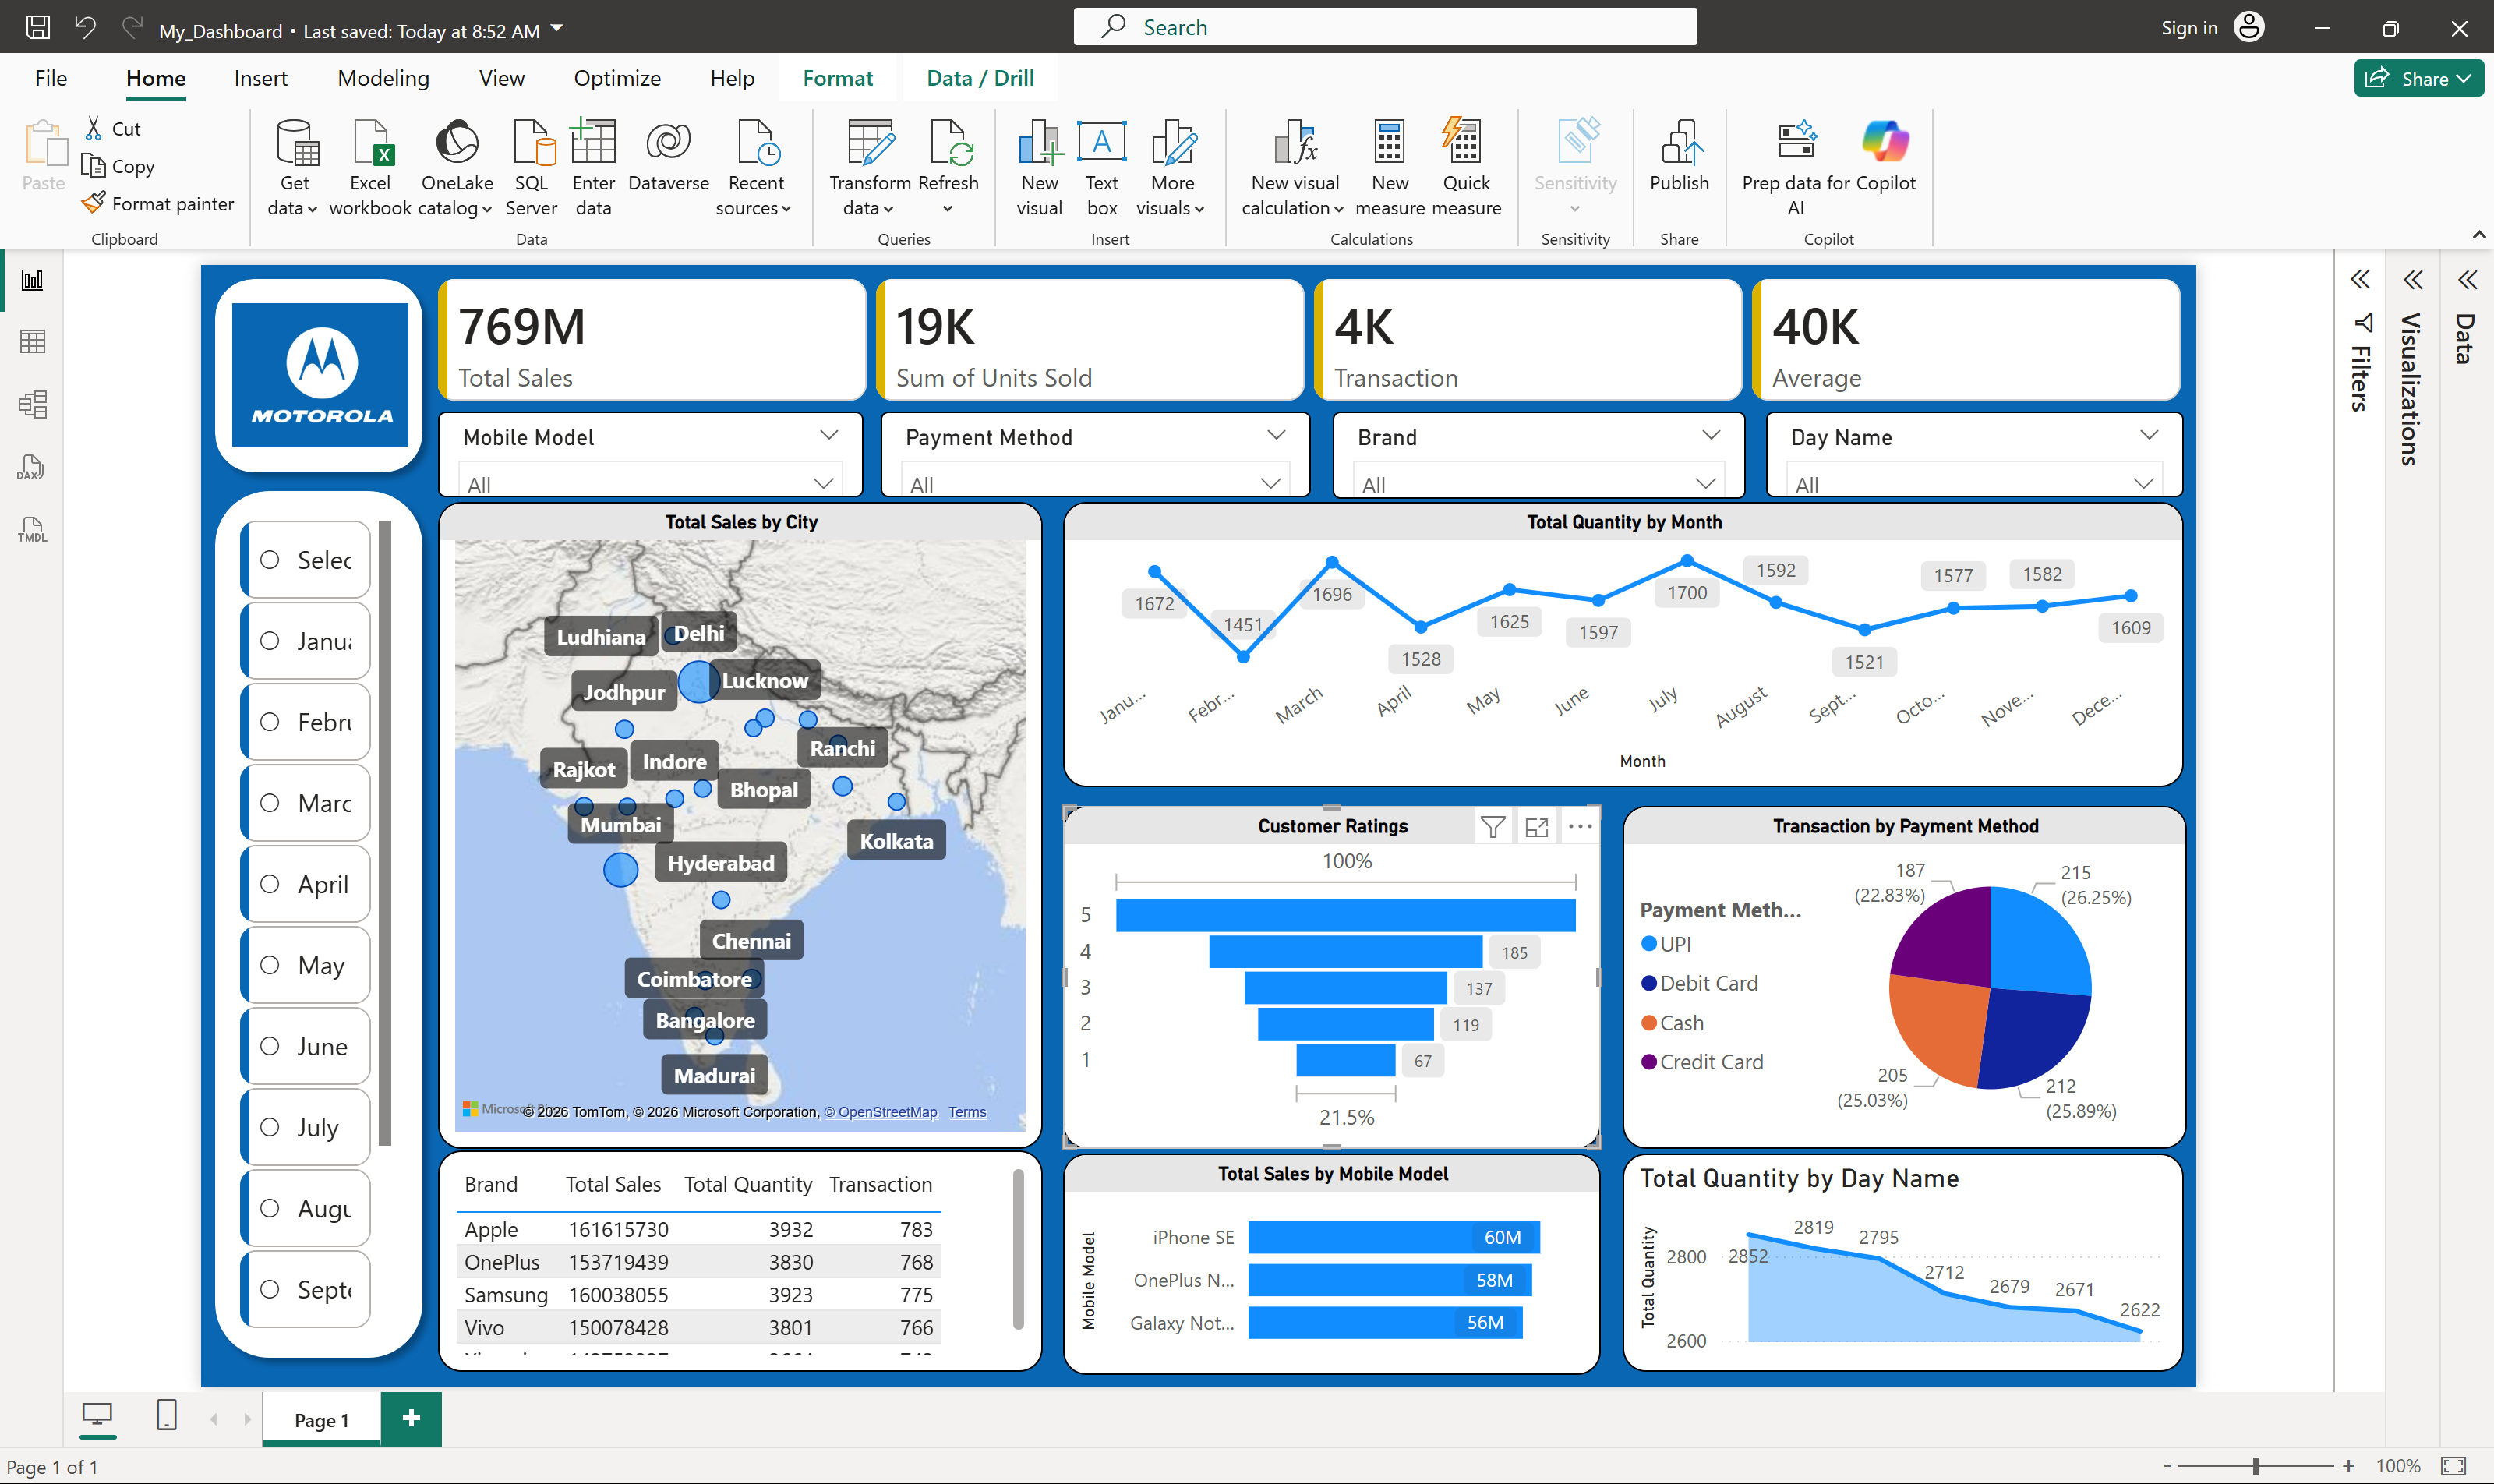

This screenshot's page, from the dashboard's own definition file:
{"tool":"powerbi","page":{"name":"Page 1","canvas":[1280,720],"ordinal":0},"visuals":[{"type":"cardVisual","fields":{"Data":["sales_Data.Total Sales","Sum(sales_Data.Units Sold)","sales_Data.Transaction","sales_Data.Average"]},"box":[143.1,0,1136.9,95.8],"z":0},{"type":"shape","box":[0,0,150.8,141.9],"z":1000},{"type":"image","box":[20.4,20.4,112.4,100.9],"z":2000},{"type":"shape","box":[0,135.7,151,574.5],"z":3000},{"type":"advancedSlicerVisual","fields":{"Values":["sales_Data.Date.Variation.Date Hierarchy.Month"]},"box":[20.4,159.2,106.1,529.6],"z":4000},{"type":"map","fields":{"Category":["sales_Data.City"],"Size":["sales_Data.Total Sales"]},"box":[151.8,151.8,388.2,415.7],"z":5000},{"type":"lineChart","fields":{"Category":["sales_Data.Date.Variation.Date Hierarchy.Month","sales_Data.Date.Variation.Date Hierarchy.Day"],"Y":["sales_Data.Total Quantity"]},"box":[553.1,151.8,719.2,183.6],"z":6000},{"type":"clusteredBarChart","fields":{"Category":["sales_Data.Mobile Model"],"Y":["sales_Data.Total Sales"]},"box":[553.1,569.7,344.9,141.8],"z":7000},{"type":"pieChart","fields":{"Category":["sales_Data.Payment Method"],"Y":["sales_Data.Transaction"]},"box":[912.1,347.5,361.5,219.7],"z":8000},{"type":"funnel","title":"Customer Ratings","fields":{"Category":["sales_Data.Customer Ratings"],"Y":["CountNonNull(sales_Data.Customer Ratings)"]},"box":[553.1,347.5,344.9,219.7],"z":9000},{"type":"areaChart","fields":{"Y":["sales_Data.Total Quantity"],"Category":["sales_Data.Day Name"]},"box":[912.1,569.7,360.2,140.5],"z":10000},{"type":"tableEx","fields":{"Values":["sales_Data.Brand","sales_Data.Total Sales","sales_Data.Total Quantity","sales_Data.Transaction"]},"box":[152,568.5,388.3,141.8],"z":11000},{"type":"slicer","fields":{"Values":["sales_Data.Mobile Model"]},"box":[151.9,93.7,273.5,55.7],"z":12000},{"type":"slicer","fields":{"Values":["sales_Data.Payment Method"]},"box":[435.5,93.7,276,55.7],"z":13000},{"type":"slicer","fields":{"Values":["sales_Data.Brand"]},"box":[726.2,93.8,264.9,55.8],"z":14000},{"type":"slicer","fields":{"Values":["sales_Data.Day Name"]},"box":[1004,93.7,268.4,55.7],"z":15000}]}

Visuals, with their boxes on the page's 1280x720 design canvas (x1, y1, x2, y2). These are canvas units, not pixel positions in the 2494x1484 screenshot, which may show the page scaled, cropped or inside an application window:
cardVisual - sales_Data.Total Sales x Sum(sales_Data.Units Sold): select_region(143, 0, 1280, 96)
shape: select_region(0, 0, 151, 142)
image: select_region(20, 20, 133, 121)
shape: select_region(0, 136, 151, 710)
advancedSlicerVisual - sales_Data.Date.Variation.Date Hierarchy.Month: select_region(20, 159, 126, 689)
map - sales_Data.City x sales_Data.Total Sales: select_region(152, 152, 540, 568)
lineChart - sales_Data.Date.Variation.Date Hierarchy.Month x sales_Data.Date.Variation.Date Hierarchy.Day: select_region(553, 152, 1272, 335)
clusteredBarChart - sales_Data.Mobile Model x sales_Data.Total Sales: select_region(553, 570, 898, 712)
pieChart - sales_Data.Payment Method x sales_Data.Transaction: select_region(912, 348, 1274, 567)
"Customer Ratings" funnel: select_region(553, 348, 898, 567)
areaChart - sales_Data.Total Quantity x sales_Data.Day Name: select_region(912, 570, 1272, 710)
tableEx - sales_Data.Brand x sales_Data.Total Sales: select_region(152, 568, 540, 710)
slicer - sales_Data.Mobile Model: select_region(152, 94, 425, 149)
slicer - sales_Data.Payment Method: select_region(436, 94, 712, 149)
slicer - sales_Data.Brand: select_region(726, 94, 991, 150)
slicer - sales_Data.Day Name: select_region(1004, 94, 1272, 149)
